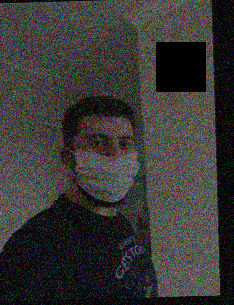with_mask: (74, 123, 141, 209)
